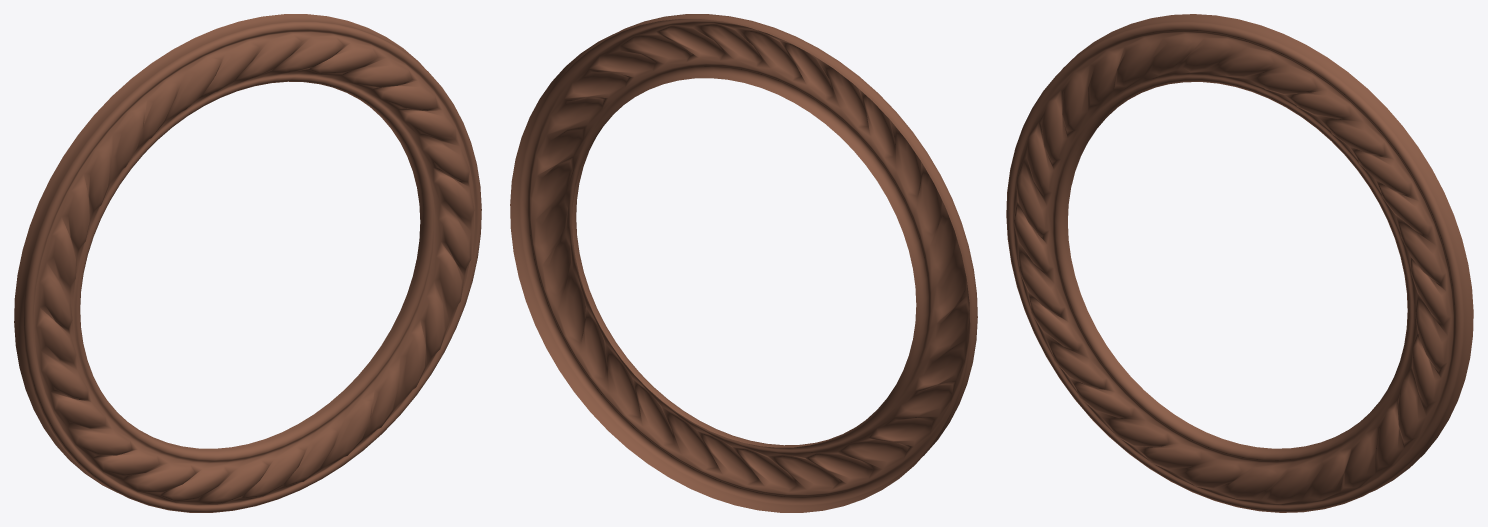
The model's file is Pyöreät kehykset.fbx.
3 views of the same model, side by side, from view 1: azimuth 30°, elevation 25°; view 2: azimuth 150°, elevation 25°; view 3: azimuth 330°, elevation 25° (orthographic).
Parts seen in each view (by area): view 1: Pyöreät kehykset; view 2: Pyöreät kehykset; view 3: Pyöreät kehykset.
Part boxes in pixels (left/top/right/bottom): Pyöreät kehykset: left=14, top=14, right=481, bottom=512; Pyöreät kehykset: left=510, top=14, right=977, bottom=512; Pyöreät kehykset: left=1006, top=14, right=1473, bottom=512.
Size of the model in its own units: 44.79 by 44.79 by 2.77.
